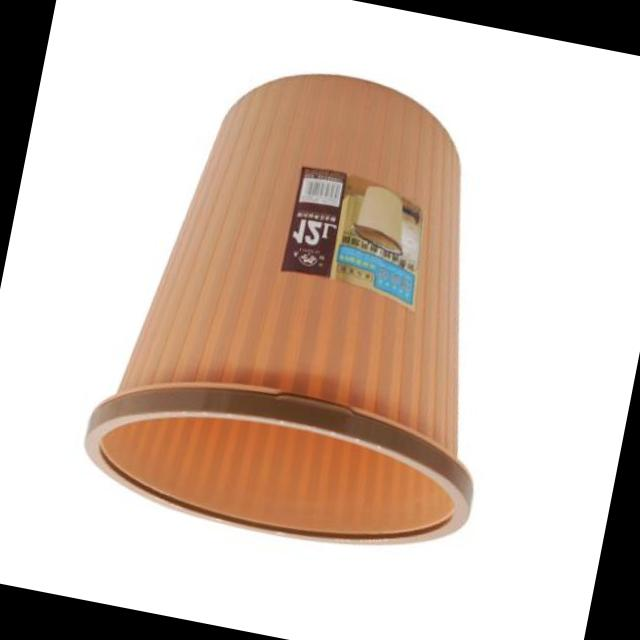dustbin: (72, 36, 554, 580)
